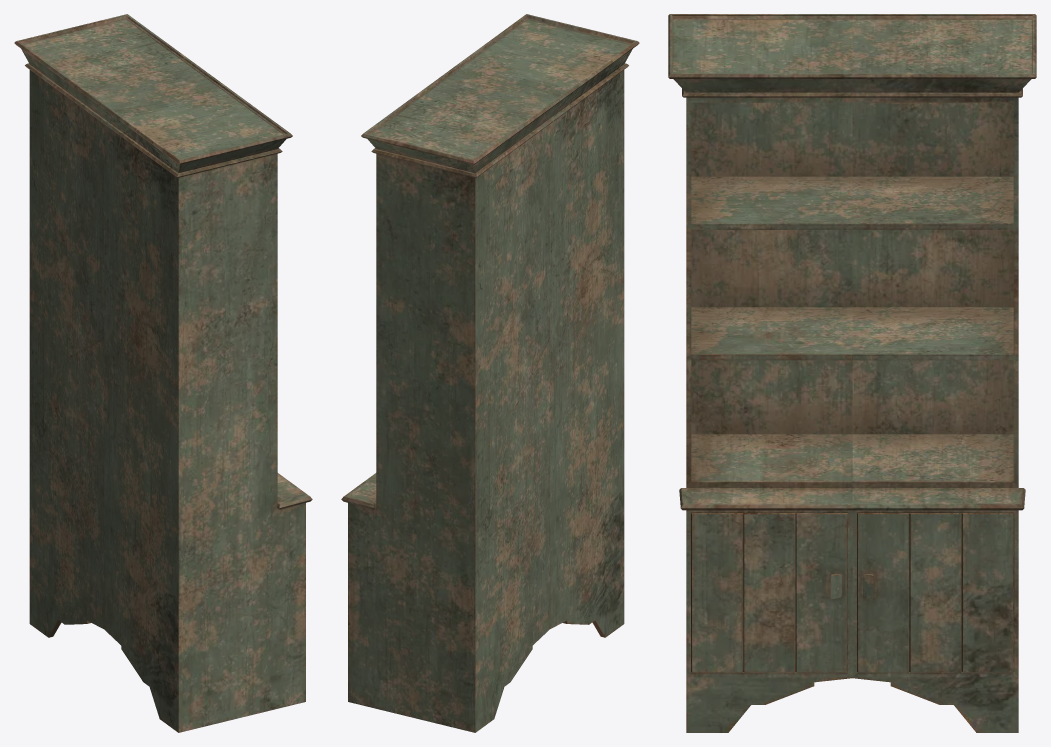
Rendered from cupboard_compressed.glb.
3 views of the same model, side by side, from view 1: azimuth 30°, elevation 25°; view 2: azimuth 150°, elevation 25°; view 3: azimuth 270°, elevation 25° (orthographic). The views are drawn at different scales.
Visible parts, largest first — view 1: Cube_DefaultMaterial_0; view 2: Cube_DefaultMaterial_0; view 3: Cube_DefaultMaterial_0.
Part boxes in pixels (x1=…): Cube_DefaultMaterial_0: x1=14, y1=14, x2=312, y2=732; Cube_DefaultMaterial_0: x1=341, y1=14, x2=639, y2=732; Cube_DefaultMaterial_0: x1=668, y1=14, x2=1036, y2=732.
Size of the model in its own units: 50.69 by 200 by 103.
Materials: 1 (1 with a texture image).
